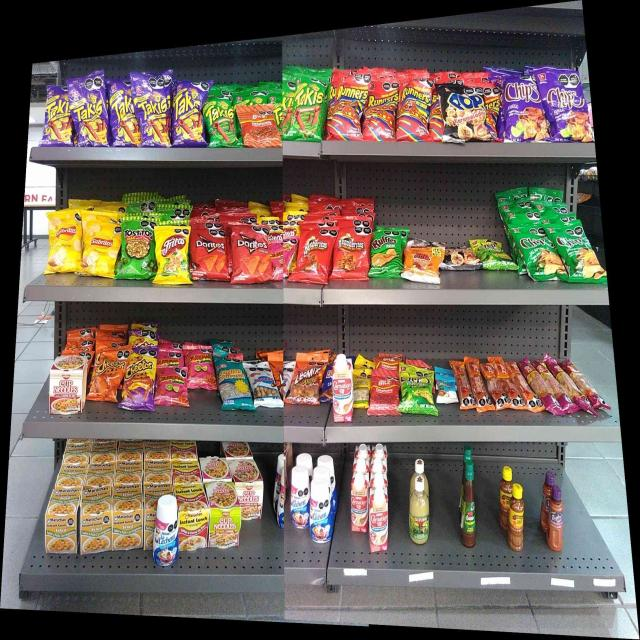bitzAlmendras: (438, 376, 457, 404)
bitzEnchilado90: (241, 104, 280, 148), (373, 372, 399, 416)
bitzEnchilado95: (458, 362, 472, 410), (515, 361, 527, 409), (488, 364, 500, 409), (474, 363, 485, 411), (502, 361, 512, 407)
bitzHabanero: (532, 366, 606, 414)
botaneraChilito: (508, 483, 524, 554)
cheetosFlaminHot: (125, 352, 154, 411)
cheetosOriginal: (95, 349, 121, 401)
chipsFuego: (545, 70, 588, 142), (500, 78, 540, 143)
chipsJalapeno: (561, 221, 600, 285), (519, 224, 558, 282)
chipsPapatinas: (402, 369, 434, 413), (481, 240, 511, 269)
churrumais: (157, 366, 186, 405), (189, 347, 213, 387), (159, 346, 184, 364)
delPrimoSalsa: (409, 475, 429, 544)
doritosNacho: (232, 225, 270, 282), (192, 227, 228, 279)
fritosLimon: (156, 225, 187, 284)
hotNutsOriginal: (406, 246, 440, 282)
leoCacahuates: (250, 362, 276, 406)
leoMix: (294, 357, 320, 404)
maruchanPollo: (46, 488, 79, 555), (112, 486, 144, 550), (82, 488, 111, 553)
maruchanRes: (177, 486, 206, 548)
nestleCarnation: (332, 356, 353, 422), (369, 486, 388, 552), (350, 472, 368, 532)
nestleLechera: (152, 494, 176, 567), (310, 478, 332, 542), (291, 465, 309, 529)
nissinCamaron: (208, 484, 240, 549)
nissinRes: (50, 356, 86, 413)
popKarameladas: (441, 84, 487, 143), (445, 246, 478, 270)
rancheritos: (334, 230, 366, 279), (299, 230, 329, 282)
rufflesQueso: (373, 232, 402, 276)
runners: (332, 76, 362, 140), (399, 83, 429, 141), (367, 84, 395, 140)
sabritasOriginal: (49, 215, 82, 271), (85, 221, 116, 275)
salsaBufalo: (459, 461, 476, 548)
semillasCalabaza: (354, 369, 370, 409)
semillasGirasol: (218, 358, 248, 409)
tajinDulce: (547, 485, 563, 553)
takisFuego: (172, 81, 205, 147), (75, 80, 106, 146), (139, 78, 169, 146), (110, 81, 137, 147), (45, 88, 70, 146)
takisOriginal: (292, 78, 322, 141), (207, 95, 235, 146)
tostitos: (122, 218, 154, 279)
